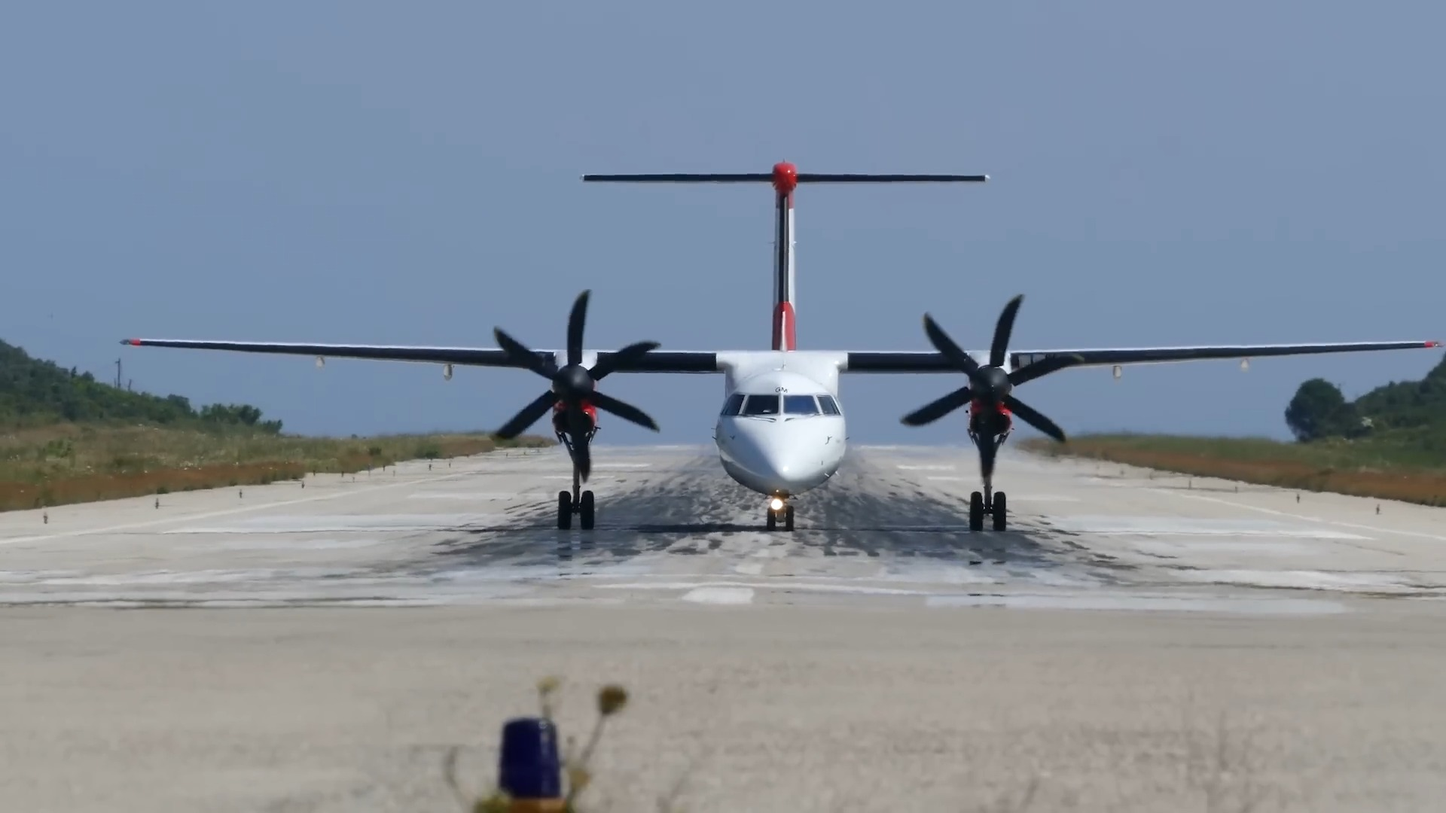airplane: (115, 160, 1436, 541)
